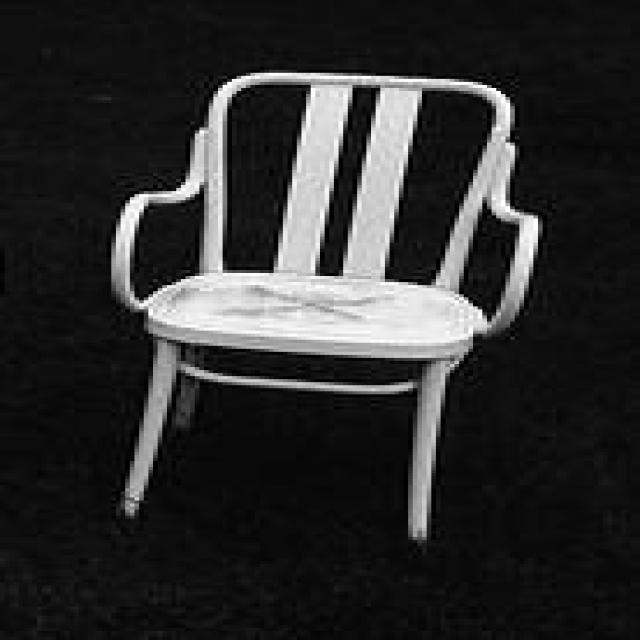chair: (107, 70, 542, 543)
